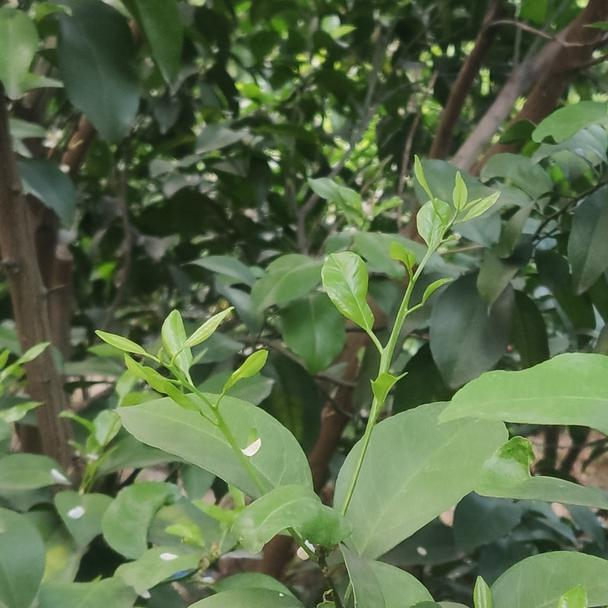shoot: (332, 159, 500, 381), (97, 313, 277, 454)
